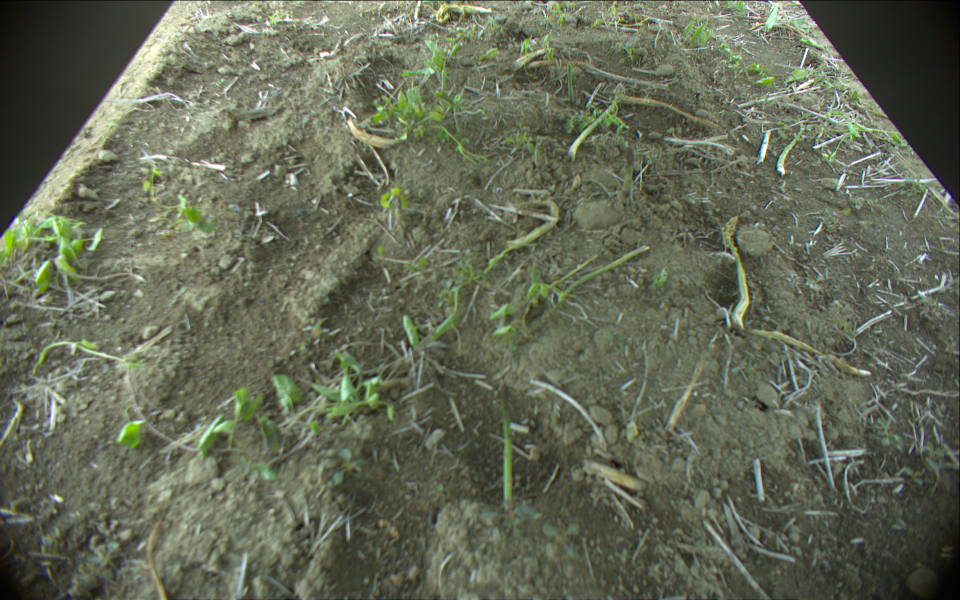aspa: (569, 85, 625, 159), (720, 214, 751, 330), (500, 382, 514, 508)
